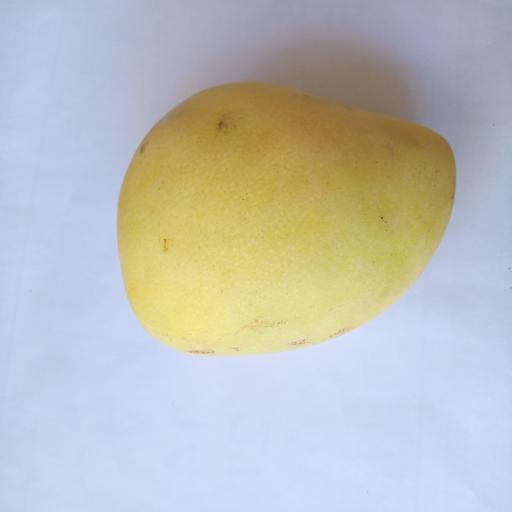mango-ripe: (93, 58, 467, 367)
